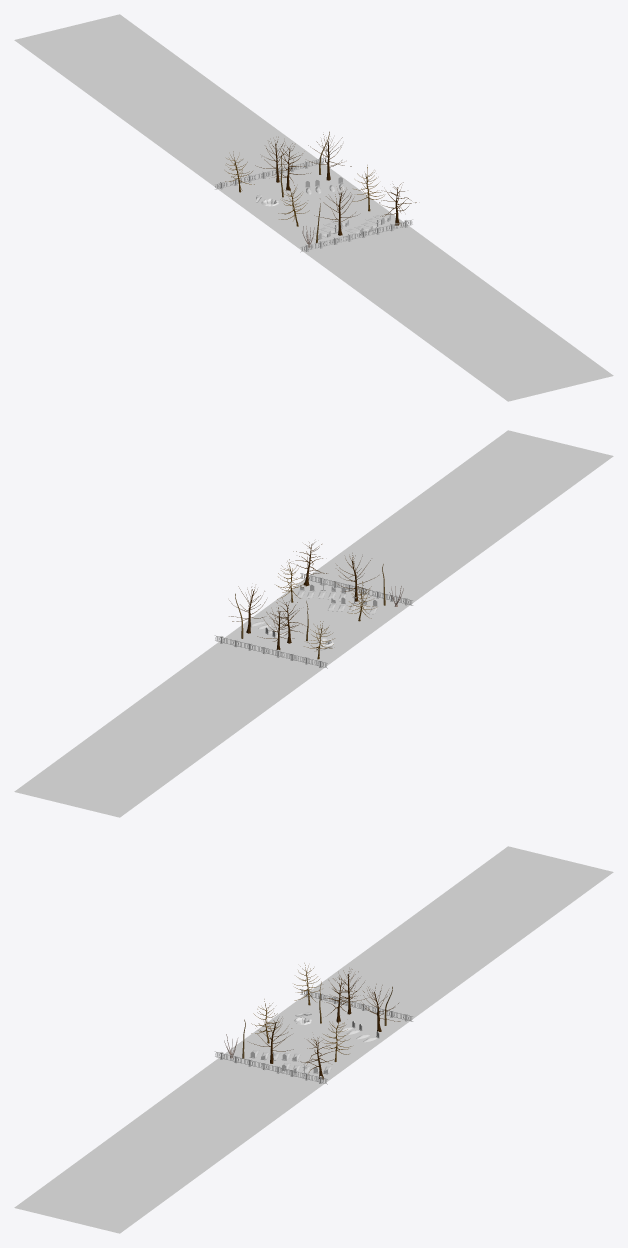
3 views of the same model, one above another, from view 1: azimuth 30°, elevation 25°; view 2: azimuth 150°, elevation 25°; view 3: azimuth 330°, elevation 25° (orthographic).
Parts seen in each view (by area): view 1: GY100, GY102; view 2: GY100, GY102; view 3: GY100, GY102.
Boxes of the visible parts, left/top/right/bottom form: GY100: left=14, top=14, right=613, bottom=401; GY102: left=214, top=157, right=413, bottom=252; GY100: left=14, top=430, right=613, bottom=817; GY102: left=214, top=573, right=413, bottom=668; GY100: left=14, top=846, right=613, bottom=1233; GY102: left=214, top=989, right=413, bottom=1084.
Size of the model in its own units: 1118 by 477 by 8000.
